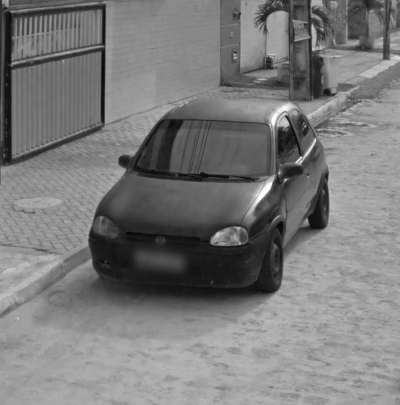car: (86, 95, 332, 296)
